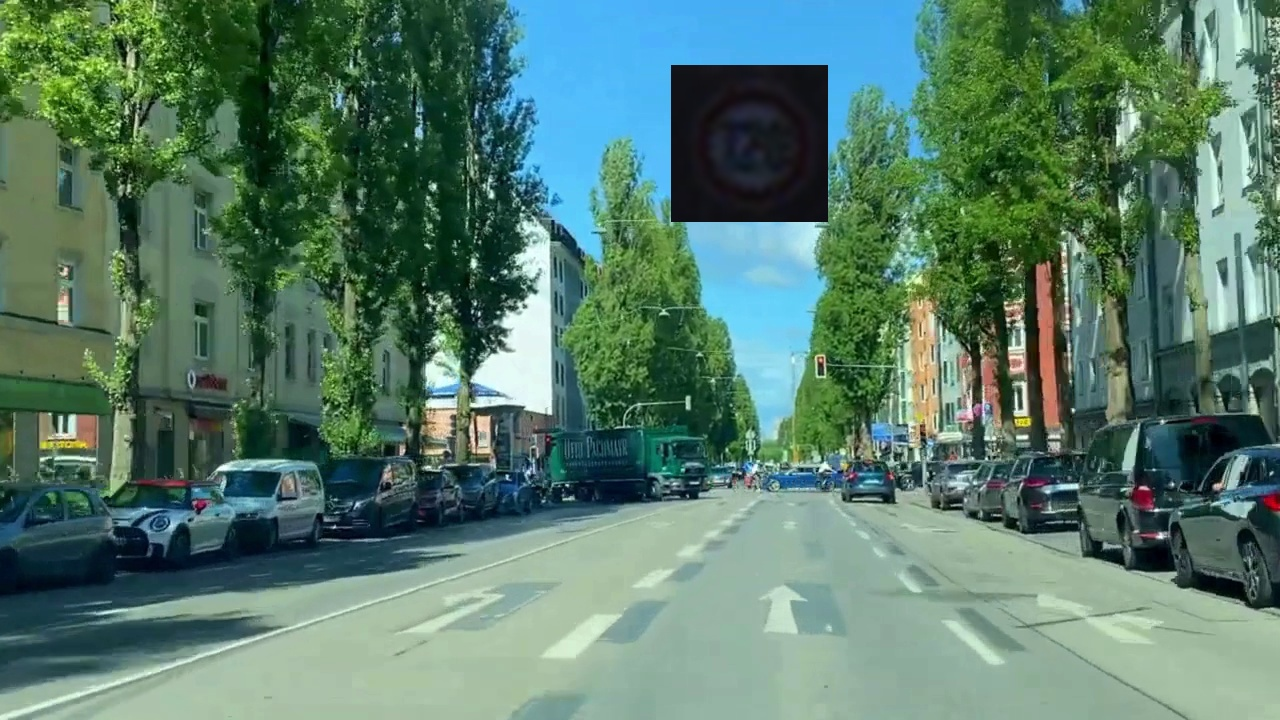Speed 120: (671, 65, 828, 222)
